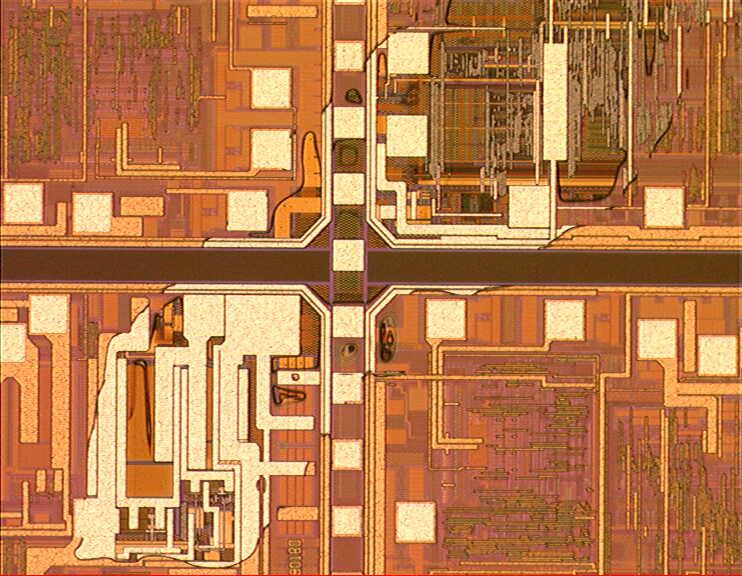COATING BAD: (62, 1, 722, 576)
